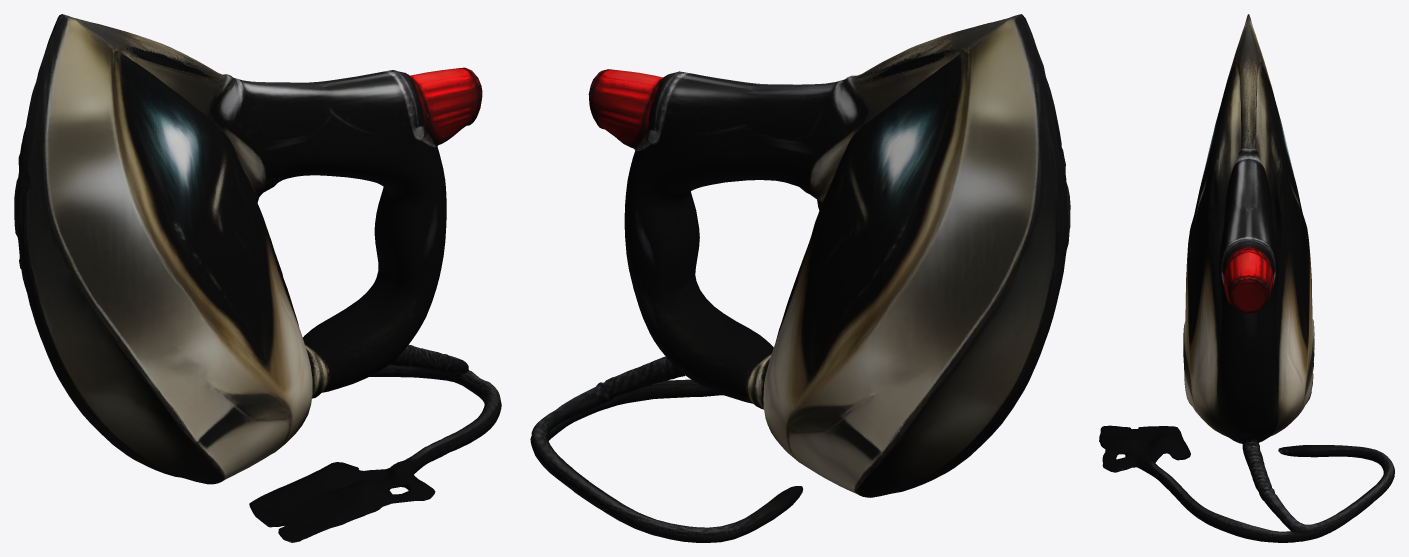
File: iron.glb
3 views of the same model, side by side, from view 1: azimuth 30°, elevation 25°; view 2: azimuth 150°, elevation 25°; view 3: azimuth 270°, elevation 25° (orthographic). The views are drawn at different scales.
Visible parts, largest first — view 1: world; view 2: world; view 3: world.
Boxes of the visible parts, box(x1,y1,x2,y2) form: world: box(14, 14, 501, 542); world: box(530, 14, 1070, 542); world: box(1099, 14, 1394, 542).
Bounding box in the file's own units: 0.9973 × 0.9822 × 0.7081.
1 material, 1 textured.
